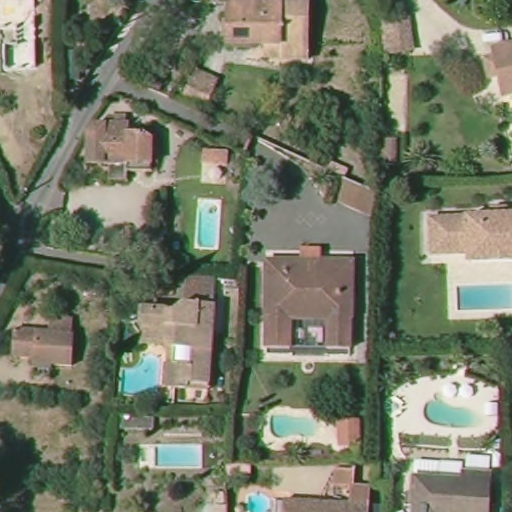pool: (114, 348, 168, 408), (418, 390, 489, 433), (151, 432, 209, 471), (452, 279, 512, 314), (268, 408, 325, 443), (191, 197, 223, 252), (242, 487, 276, 509)
